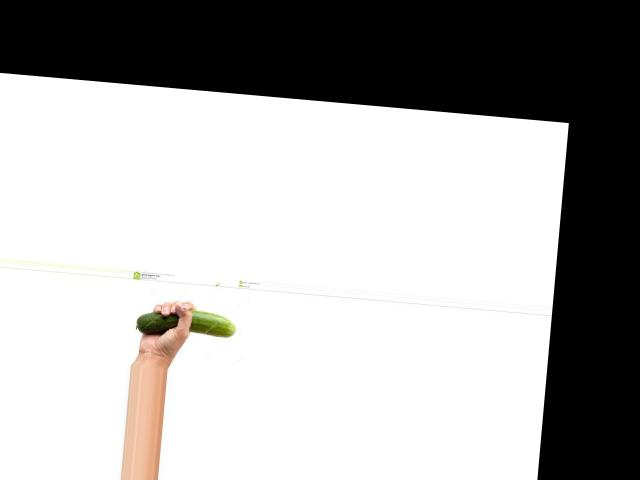cucumber: (136, 304, 237, 341)
